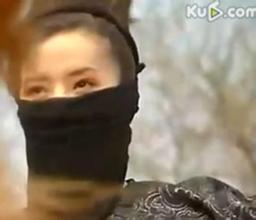OK: (23, 67, 117, 161)
